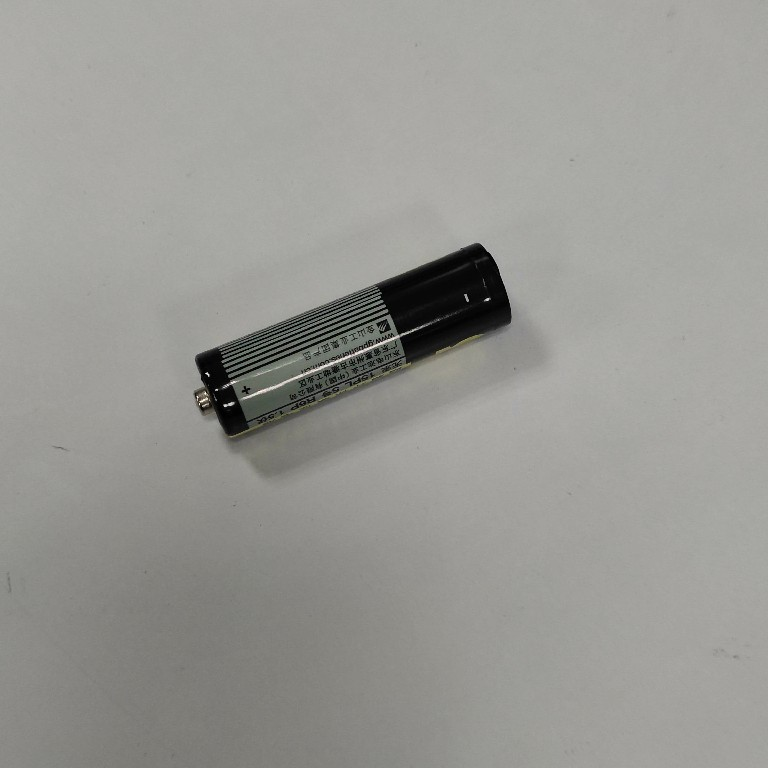charge: (190, 238, 518, 440)
